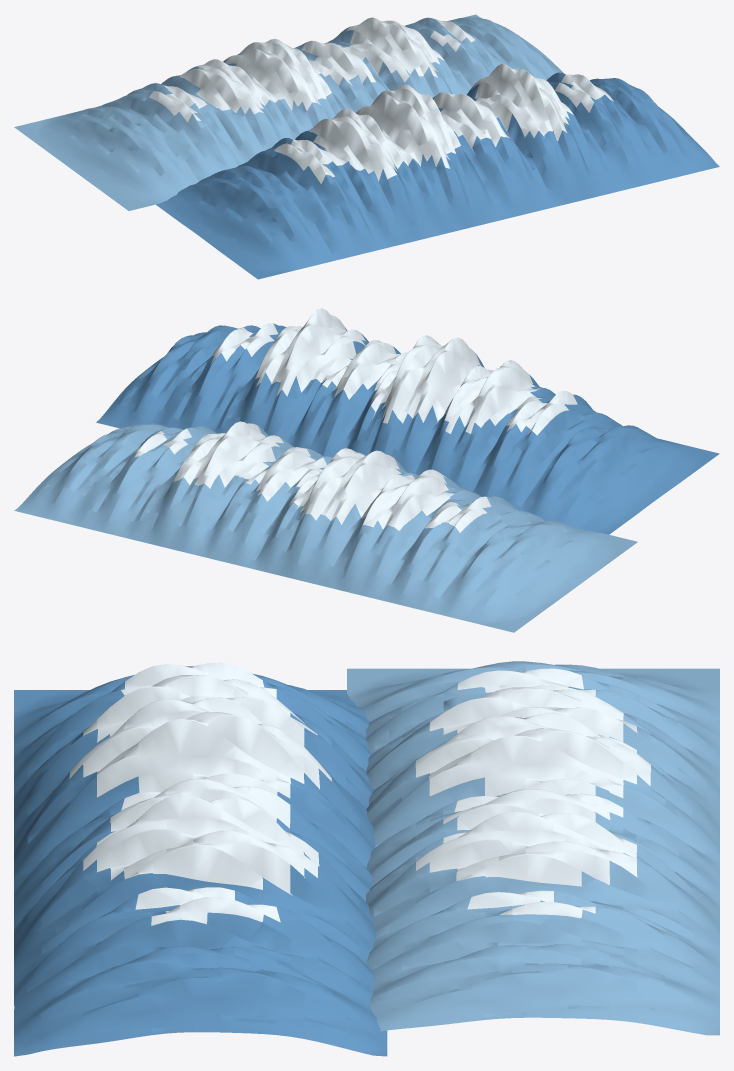
Rendered from LakesideMountainHiFi.fbx.
3 renders of one model, top to bottom at view 1: azimuth 30°, elevation 25°; view 2: azimuth 150°, elevation 25°; view 3: azimuth 270°, elevation 25°, orthographic. The views are drawn at different scales.
Parts seen in each view (by area): view 1: HiFi_AlpineRange_Main.001, HiFi_AlpineRange_Far.001; view 2: HiFi_AlpineRange_Far.001, HiFi_AlpineRange_Main.001; view 3: HiFi_AlpineRange_Main.001, HiFi_AlpineRange_Far.001.
Part boxes in pixels (<box>): HiFi_AlpineRange_Main.001: <box>156,63,719,279</box>; HiFi_AlpineRange_Far.001: <box>14,14,563,210</box>; HiFi_AlpineRange_Far.001: <box>14,421,637,632</box>; HiFi_AlpineRange_Main.001: <box>96,308,719,534</box>; HiFi_AlpineRange_Main.001: <box>14,662,387,1056</box>; HiFi_AlpineRange_Far.001: <box>347,661,719,1035</box>.
Size of the model in its own units: 91 by 16.45 by 70.02.
